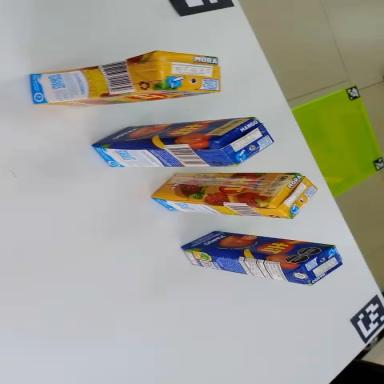HIT-MANGO: (179, 226, 344, 289), (92, 117, 273, 167)
HIT-MORA: (28, 45, 221, 112), (152, 173, 317, 218)
cara_F: (181, 227, 335, 269), (39, 83, 219, 112), (151, 172, 298, 205), (92, 117, 255, 146)
